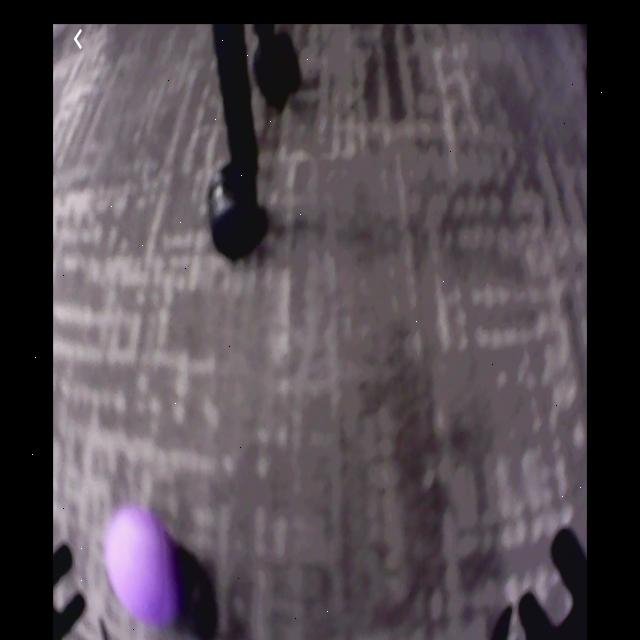ball: (107, 506, 180, 628)
